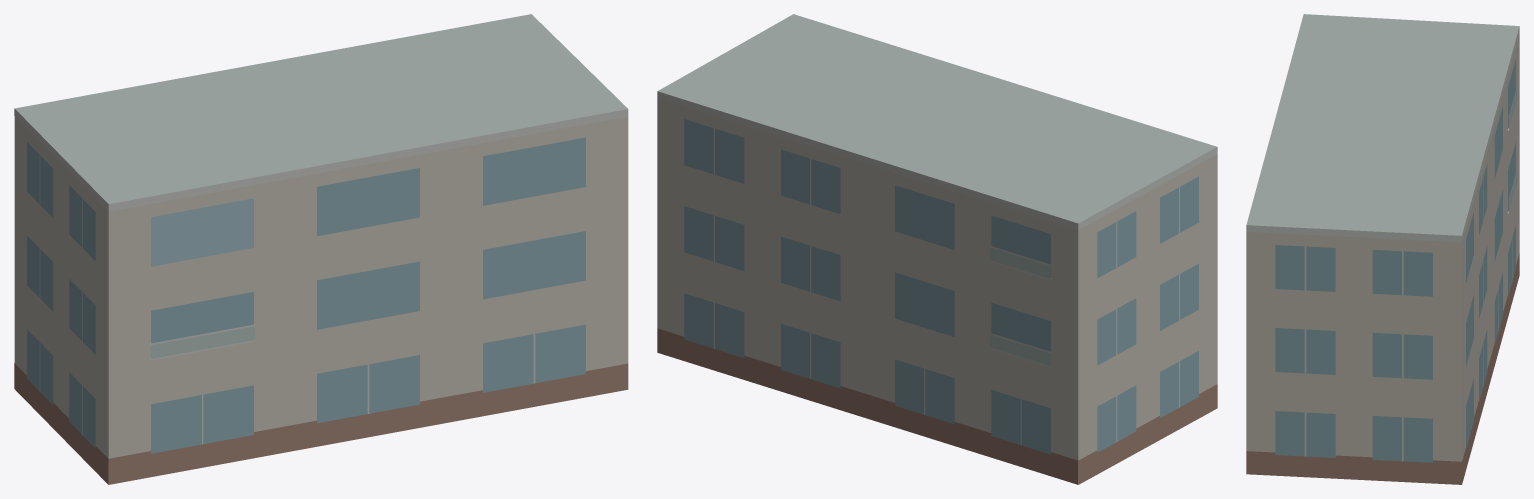
File: survey-upis-32566103.glb
3 views of the same model, side by side, from view 1: azimuth 30°, elevation 25°; view 2: azimuth 150°, elevation 25°; view 3: azimuth 270°, elevation 25° (orthographic). The views are drawn at different scales.
Parts seen in each view (by area): view 1: survey-upis-32566103.tmp; view 2: survey-upis-32566103.tmp; view 3: survey-upis-32566103.tmp.
Part boxes in pixels (<box>): survey-upis-32566103.tmp: <box>14,14,628,484</box>; survey-upis-32566103.tmp: <box>657,14,1217,484</box>; survey-upis-32566103.tmp: <box>1246,14,1519,484</box>.
Size of the model in its own units: 17.49 by 9.15 by 9.11.
